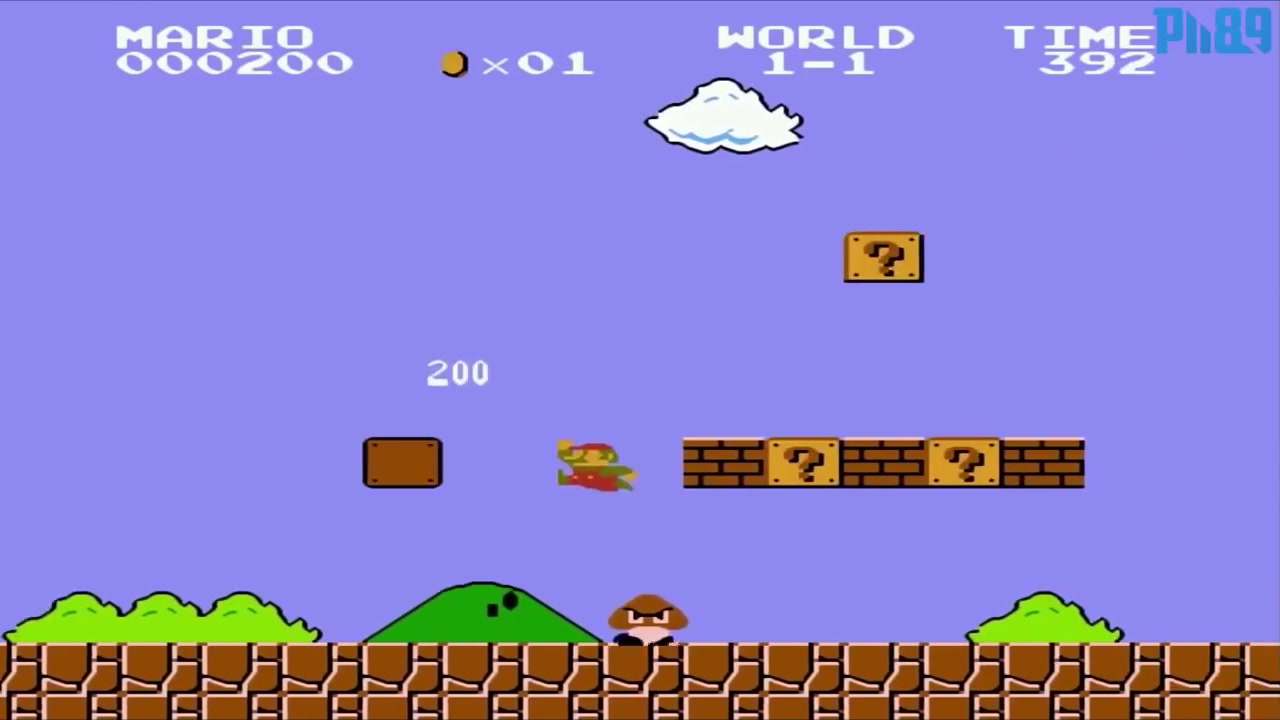mario: (546, 432, 639, 497)
